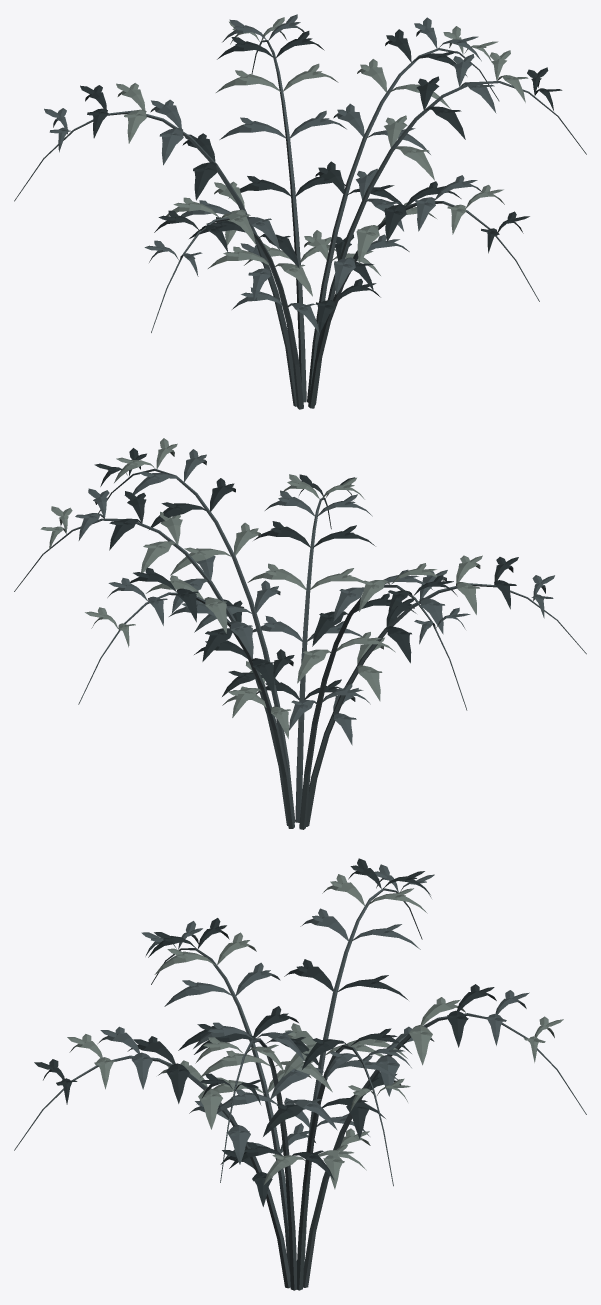
The model's file is CHAR_FERN.hi.glb.
3 views of the same model, one above another, from view 1: azimuth 30°, elevation 25°; view 2: azimuth 150°, elevation 25°; view 3: azimuth 270°, elevation 25° (orthographic). The views are drawn at different scales.
Parts seen in each view (by area): view 1: CHAR_FERN; view 2: CHAR_FERN; view 3: CHAR_FERN.
Part boxes in pixels (x1,y1,x2,y2): CHAR_FERN: (14,14,586,409); CHAR_FERN: (14,438,586,829); CHAR_FERN: (14,858,586,1290).
Bounding box in the file's own units: 0.678 × 0.429 × 0.6712.
Materials: 1 (1 with a texture image).
